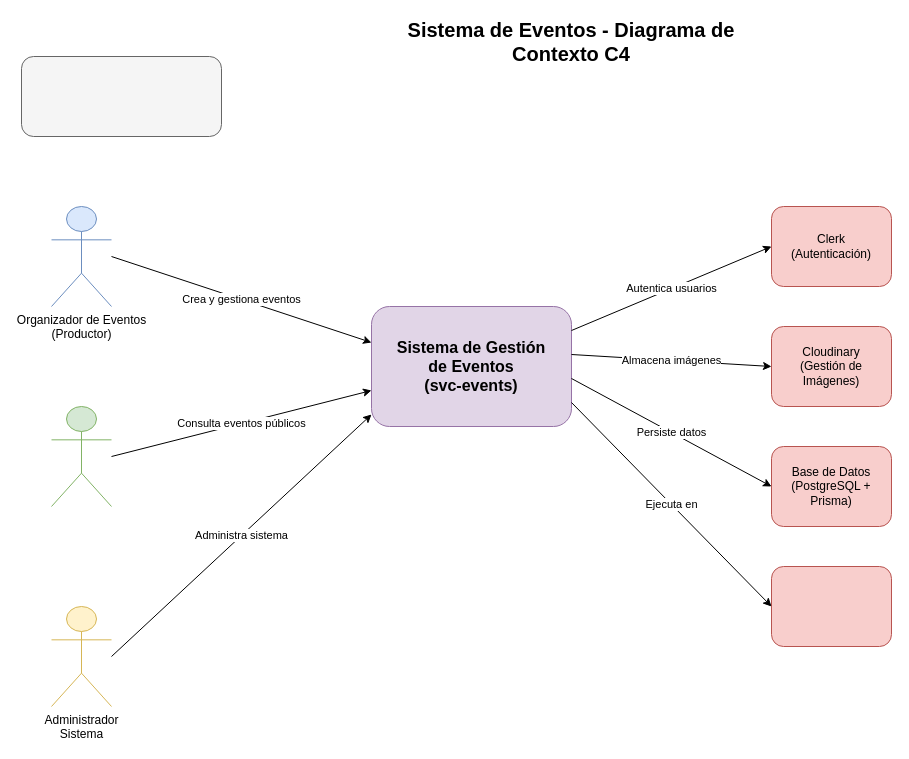
This 909x759 diagram has some shape labels left out. The shapes that lost their labels are listed below. From the top down, each one's box as (x1, y1, x2, y2) in pixels, then its label:
(20, 56, 222, 136): Leyenda: • Usuarios del sistema • Sistema principal • Sistemas externos
(50, 406, 112, 506): Visitante (Comprador)
(770, 566, 892, 646): AWS Lambda (Runtime)
